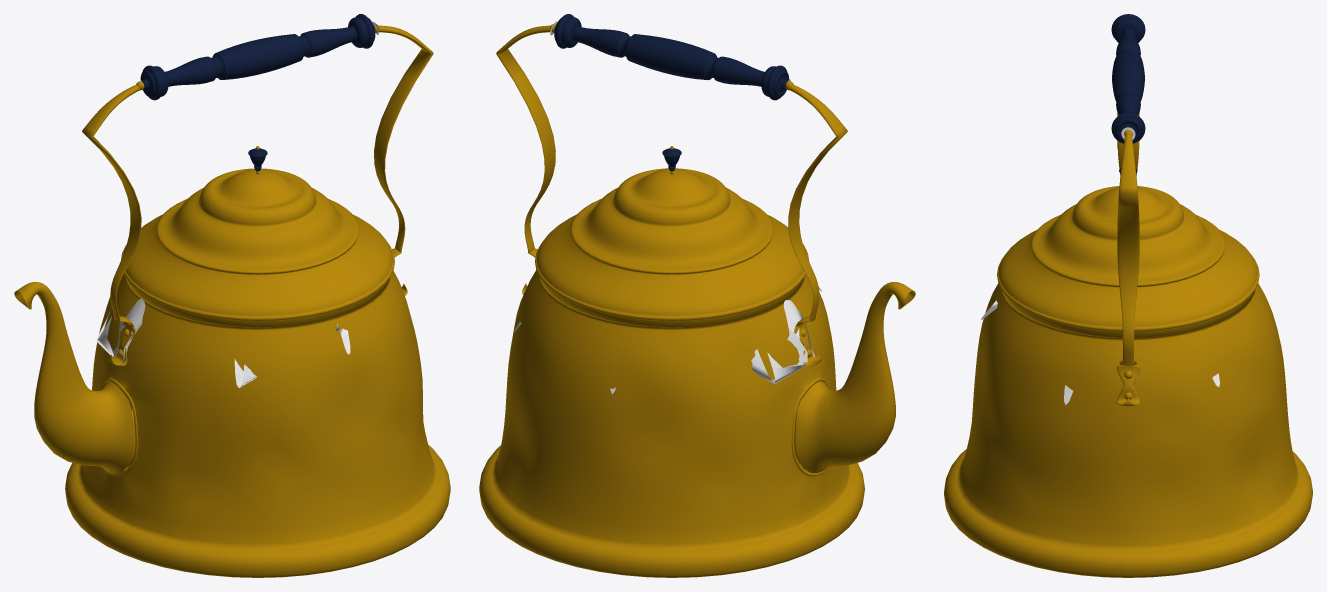
The model's file is teapot_fbx.FBX.
The picture shows the model from 3 angles, left to right: view 1: azimuth 30°, elevation 25°; view 2: azimuth 150°, elevation 25°; view 3: azimuth 270°, elevation 25°; orthographic projection. The views are drawn at different scales.
Visible parts, largest first — view 1: Line001, Line006, Loft002, Loft001, dummy_old; view 2: Line001, Line006, Loft002, Loft001, dummy_old; view 3: Line001, Loft001, Line006.
Part boxes in pixels (x1,y1,x2,y2): Line001: (14, 168, 450, 577); Line006: (140, 14, 375, 100); Loft002: (82, 85, 141, 365); Loft001: (374, 25, 433, 295); dummy_old: (96, 22, 378, 387); Line001: (479, 168, 915, 577); Line006: (554, 14, 789, 100); Loft002: (788, 85, 847, 365); Loft001: (496, 25, 555, 294); dummy_old: (514, 21, 822, 394); Line001: (944, 143, 1312, 577); Loft001: (1117, 134, 1139, 406); Line006: (1111, 14, 1145, 143).
Bounding box in the file's own units: 101 × 107 × 81.61.
